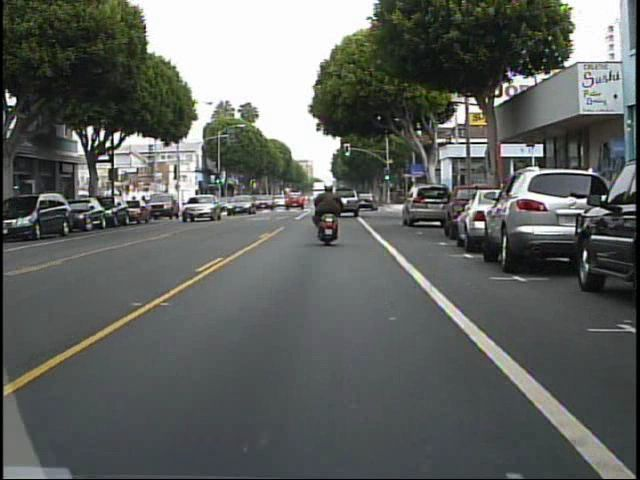person: (311, 177, 350, 245)
